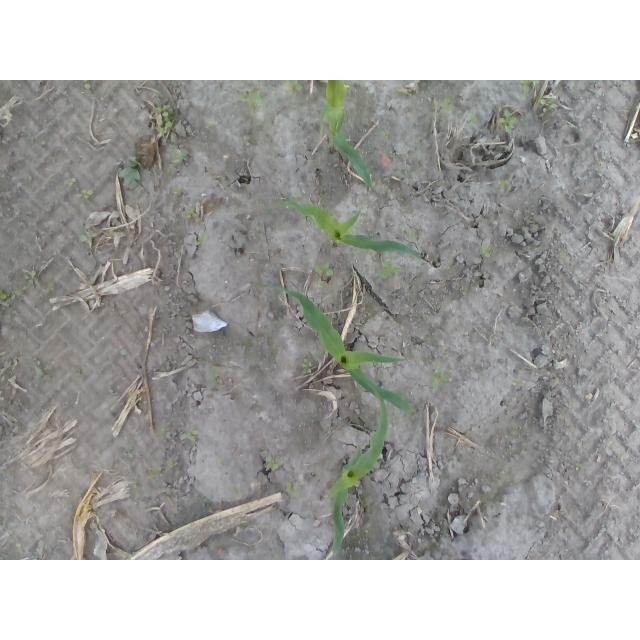Maize: (259, 283, 417, 414), (326, 371, 391, 554), (269, 199, 427, 265), (320, 81, 375, 189)
Weeds: (24, 272, 54, 293), (239, 91, 265, 115), (120, 158, 140, 189), (158, 104, 175, 136), (429, 366, 451, 390), (500, 110, 520, 134), (380, 261, 404, 280), (34, 362, 54, 383), (539, 95, 558, 113), (434, 99, 454, 114), (314, 263, 334, 277), (178, 432, 199, 445), (264, 457, 281, 473), (284, 80, 304, 93), (300, 360, 315, 377), (405, 228, 420, 244), (157, 428, 171, 445), (76, 188, 93, 201), (147, 468, 161, 482), (522, 80, 537, 93), (171, 185, 187, 197), (478, 243, 491, 257), (173, 150, 187, 163), (79, 233, 95, 244), (500, 180, 513, 193), (126, 442, 135, 458), (285, 487, 299, 497), (183, 205, 193, 219), (466, 112, 478, 123), (229, 485, 241, 496), (193, 237, 207, 246), (212, 371, 220, 386), (575, 465, 585, 475), (66, 178, 76, 187), (0, 290, 8, 301), (123, 552, 132, 561), (512, 378, 522, 386), (120, 350, 130, 358), (83, 81, 94, 87)
